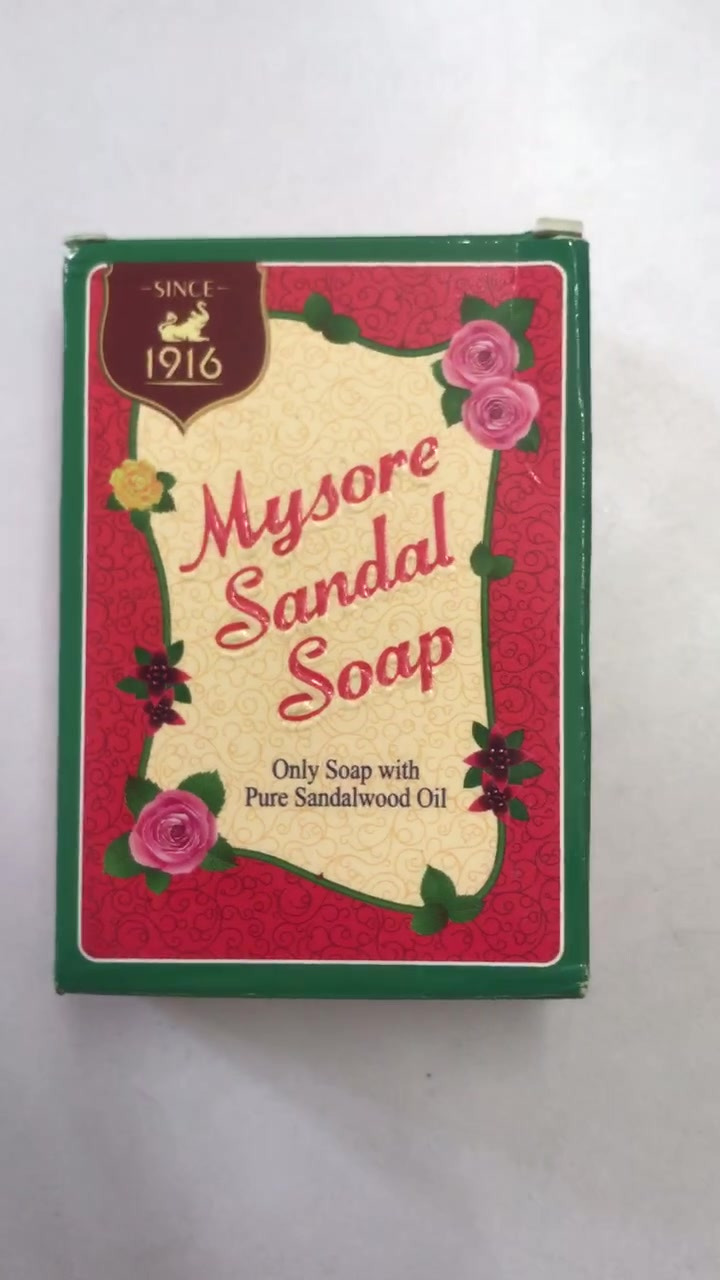mysore sandal soap: (64, 238, 595, 998)
